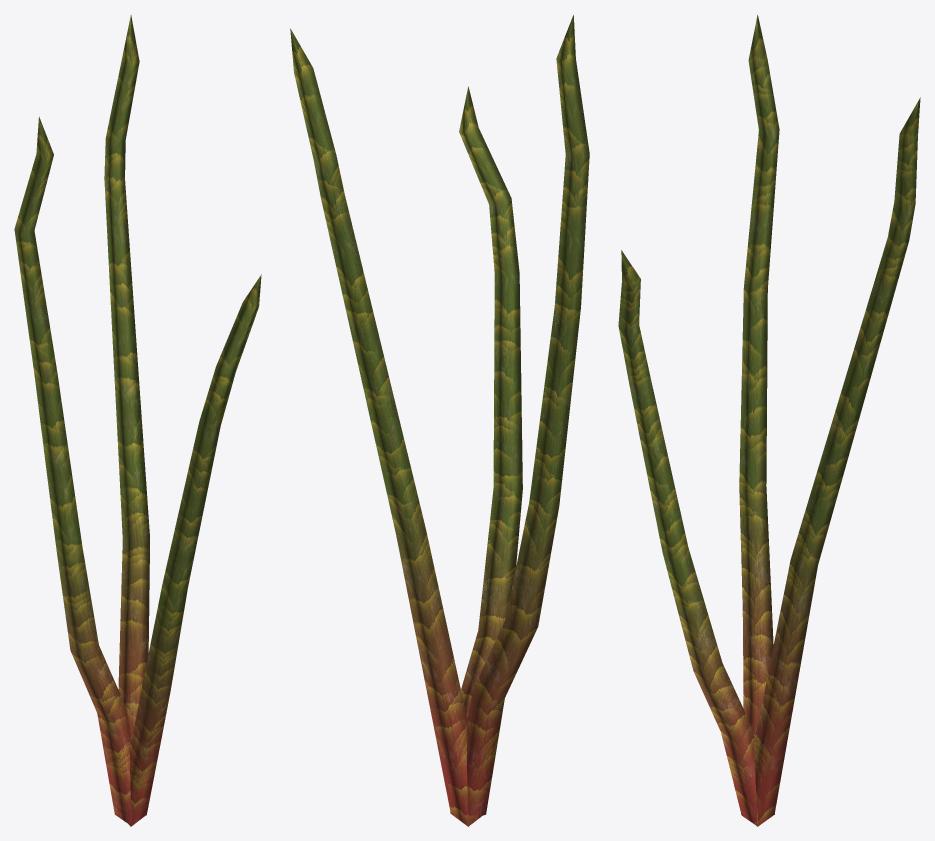
The model's file is phys_Plant5_2.fbx.
The picture shows the model from 3 angles, left to right: view 1: azimuth 30°, elevation 25°; view 2: azimuth 150°, elevation 25°; view 3: azimuth 270°, elevation 25°; orthographic projection. The views are drawn at different scales.
Visible parts, largest first — view 1: polySurface20; view 2: polySurface20; view 3: polySurface20.
Boxes of the visible parts, x1,y1,x2,y2 form: polySurface20: [14, 15, 261, 826]; polySurface20: [290, 15, 589, 826]; polySurface20: [618, 15, 920, 826].
Size of the model in its own units: 139 by 519 by 186.
